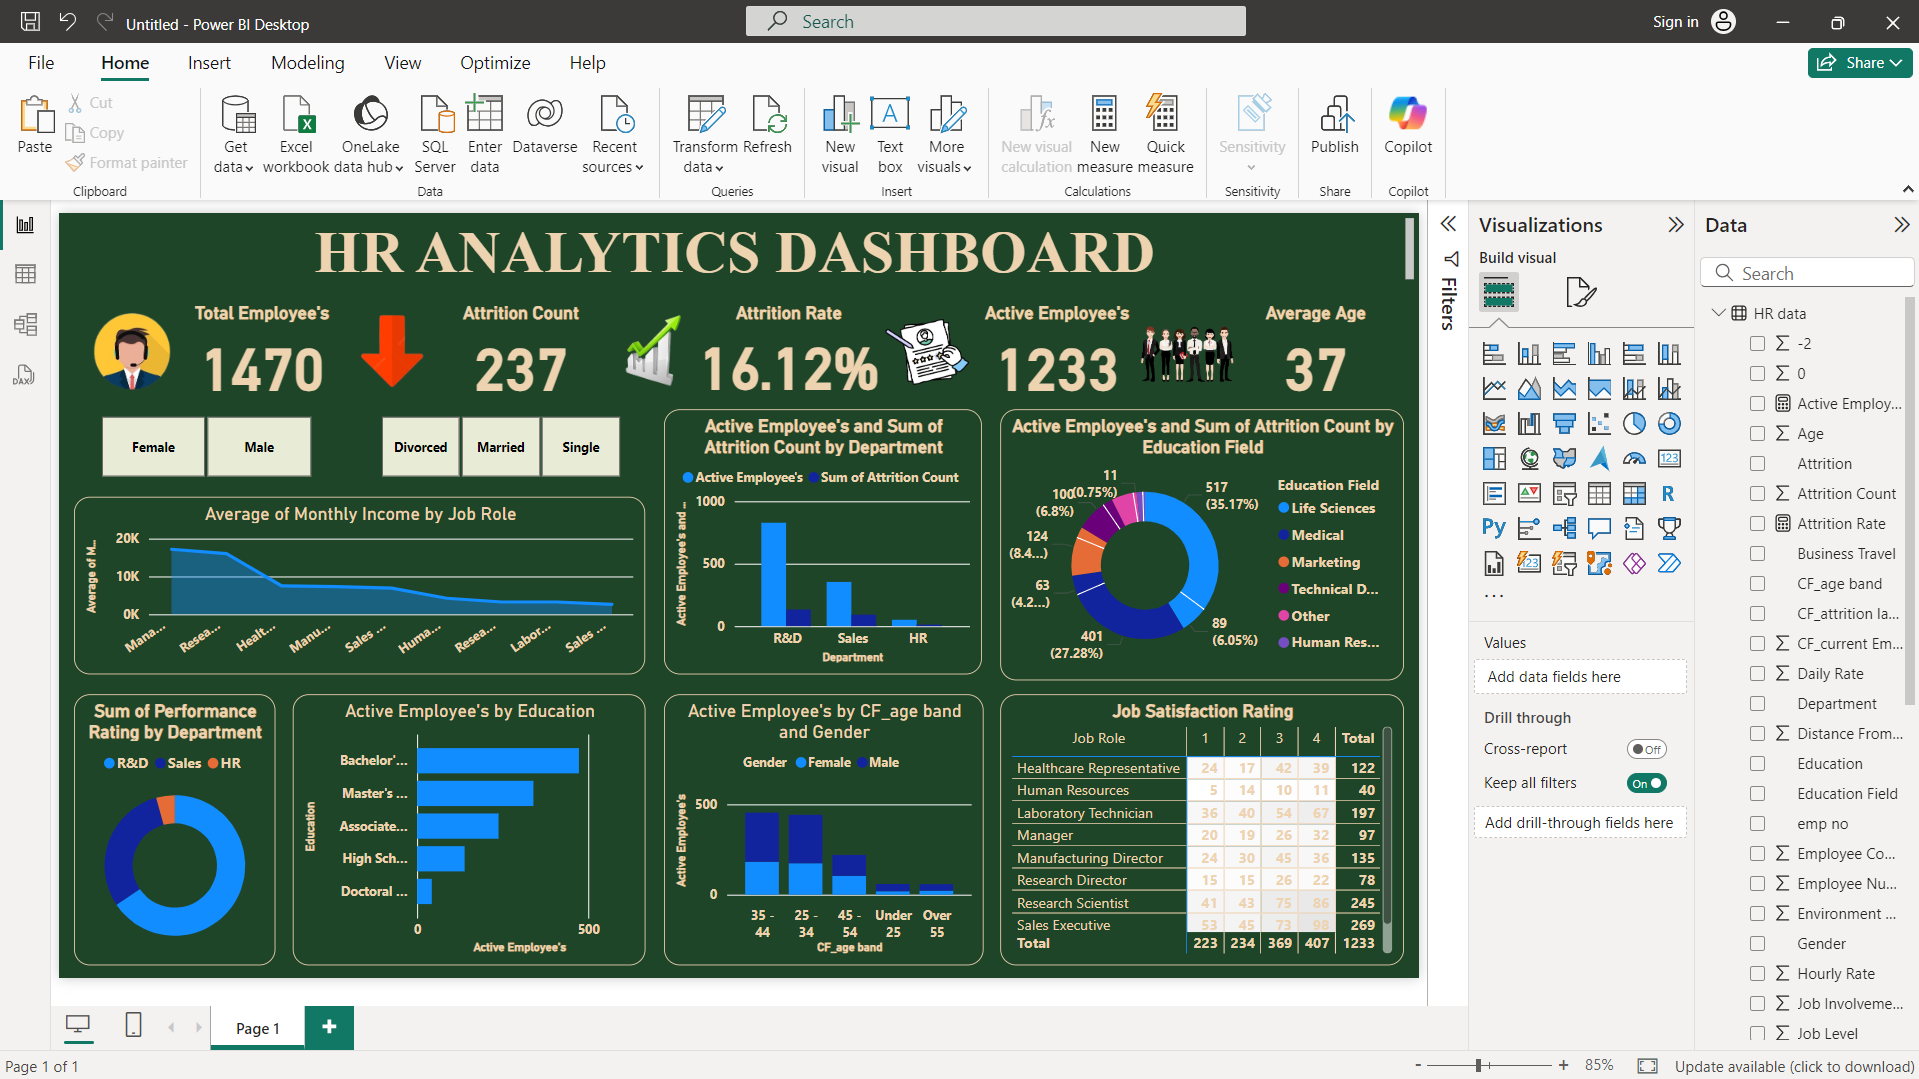

This screenshot's page, from the dashboard's own definition file:
{"tool":"powerbi","page":{"name":"Page 1","canvas":[1280,720],"ordinal":0},"visuals":[{"type":"card","title":"Total Employee''s","fields":{"Values":["Sum(HR data.Employee Count)"]},"box":[108.2,83.1,166,94.7],"z":0},{"type":"clusteredColumnChart","fields":{"Category":["HR data.Department"],"Y":["HR data.Active Employee's","Sum(HR data.Attrition Count)"]},"box":[569.5,185.2,299.1,249.7],"z":0},{"type":"card","title":"Average Age","fields":{"Values":["Avg(HR data.Age)"]},"box":[1100.5,83.1,166,94.7],"z":1000},{"type":"donutChart","fields":{"Y":["HR data.Active Employee's","Sum(HR data.Attrition Count)"],"Category":["HR data.Education Field"]},"box":[886.5,185.2,380.1,255.2],"z":1000},{"type":"card","title":"Active Employee''s","fields":{"Values":["HR data.Active Employee's"]},"box":[856.8,83.1,166,94.7],"z":2000},{"type":"columnChart","fields":{"Y":["HR data.Active Employee's"],"Category":["HR data.CF_age band"],"Series":["HR data.Gender"]},"box":[569.5,452.8,300.5,255.2],"z":2000},{"type":"card","title":"Attrition Rate","fields":{"Values":["HR data.Attrition Rate"]},"box":[595.7,83.4,183.5,94.1],"z":3000},{"type":"pivotTable","title":"Job Satisfaction Rating","fields":{"Rows":["HR data.Job Role"],"Columns":["HR data.Job Satisfaction"],"Values":["HR data.Active Employee's"]},"box":[886.5,452.8,380.1,255.2],"z":3000},{"type":"card","title":"Attrition Count","fields":{"Values":["Sum(HR data.Attrition Count)"]},"box":[351.9,83.1,166,94.7],"z":4000},{"type":"donutChart","fields":{"Y":["Sum(HR data.Performance Rating)"],"Category":["HR data.Department"]},"box":[13.7,452.8,189.4,255.2],"z":4000},{"type":"clusteredBarChart","fields":{"Category":["HR data.Education"],"Y":["HR data.Active Employee's"]},"box":[219.6,452.8,332.1,255.2],"z":5000},{"type":"areaChart","fields":{"Category":["HR data.Job Role"],"Y":["Avg(HR data.Monthly Income)"]},"box":[13.7,267.6,537.9,167.4],"z":6000},{"type":"slicer","fields":{"Values":["HR data.Gender"]},"box":[13.7,185.2,247,70],"z":7000},{"type":"slicer","fields":{"Values":["HR data.Marital Status"]},"box":[277.2,185.2,274.4,70],"z":8000},{"type":"image","box":[768,79.9,100,101.2],"z":10000},{"type":"image","box":[263,80.4,100.2,100.2],"z":11000},{"type":"image","box":[1011.6,80.4,100.2,100.2],"z":12000},{"type":"image","box":[506.7,80.4,100.2,100.2],"z":13000},{"type":"image","box":[19.2,80.4,100.2,100.2],"z":14000},{"type":"textbox","box":[0,0,1280.3,78.2],"z":15000}]}

Visuals, with their boxes on the page's 1280x720 design canvas (x1, y1, x2, y2). These are canvas units, not pixel positions in the 1919x1079 screenshot, which may show the page scaled, cropped or inside an application window:
"Total Employee''s" card: {"left": 108, "top": 83, "right": 274, "bottom": 178}
clusteredColumnChart - HR data.Department x HR data.Active Employee's: {"left": 570, "top": 185, "right": 869, "bottom": 435}
"Average Age" card: {"left": 1100, "top": 83, "right": 1266, "bottom": 178}
donutChart - HR data.Active Employee's x Sum(HR data.Attrition Count): {"left": 886, "top": 185, "right": 1267, "bottom": 440}
"Active Employee''s" card: {"left": 857, "top": 83, "right": 1023, "bottom": 178}
columnChart - HR data.Active Employee's x HR data.CF_age band: {"left": 570, "top": 453, "right": 870, "bottom": 708}
"Attrition Rate" card: {"left": 596, "top": 83, "right": 779, "bottom": 178}
"Job Satisfaction Rating" pivotTable: {"left": 886, "top": 453, "right": 1267, "bottom": 708}
"Attrition Count" card: {"left": 352, "top": 83, "right": 518, "bottom": 178}
donutChart - Sum(HR data.Performance Rating) x HR data.Department: {"left": 14, "top": 453, "right": 203, "bottom": 708}
clusteredBarChart - HR data.Education x HR data.Active Employee's: {"left": 220, "top": 453, "right": 552, "bottom": 708}
areaChart - HR data.Job Role x Avg(HR data.Monthly Income): {"left": 14, "top": 268, "right": 552, "bottom": 435}
slicer - HR data.Gender: {"left": 14, "top": 185, "right": 261, "bottom": 255}
slicer - HR data.Marital Status: {"left": 277, "top": 185, "right": 552, "bottom": 255}
image: {"left": 768, "top": 80, "right": 868, "bottom": 181}
image: {"left": 263, "top": 80, "right": 363, "bottom": 181}
image: {"left": 1012, "top": 80, "right": 1112, "bottom": 181}
image: {"left": 507, "top": 80, "right": 607, "bottom": 181}
image: {"left": 19, "top": 80, "right": 119, "bottom": 181}
textbox: {"left": 0, "top": 0, "right": 1280, "bottom": 78}
